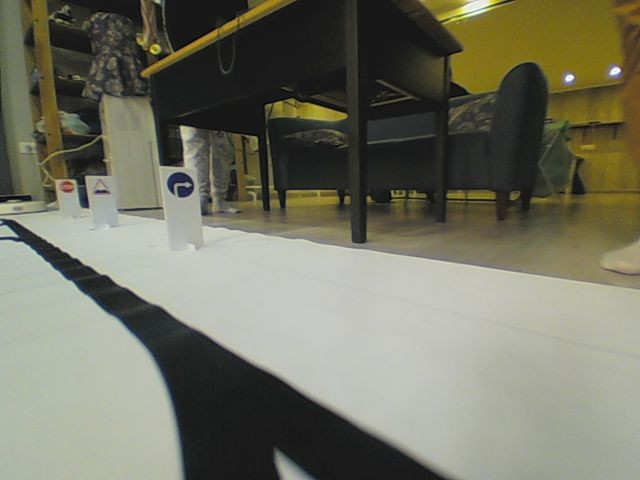Nerov: (89, 177, 111, 197)
Right: (165, 171, 195, 200)
